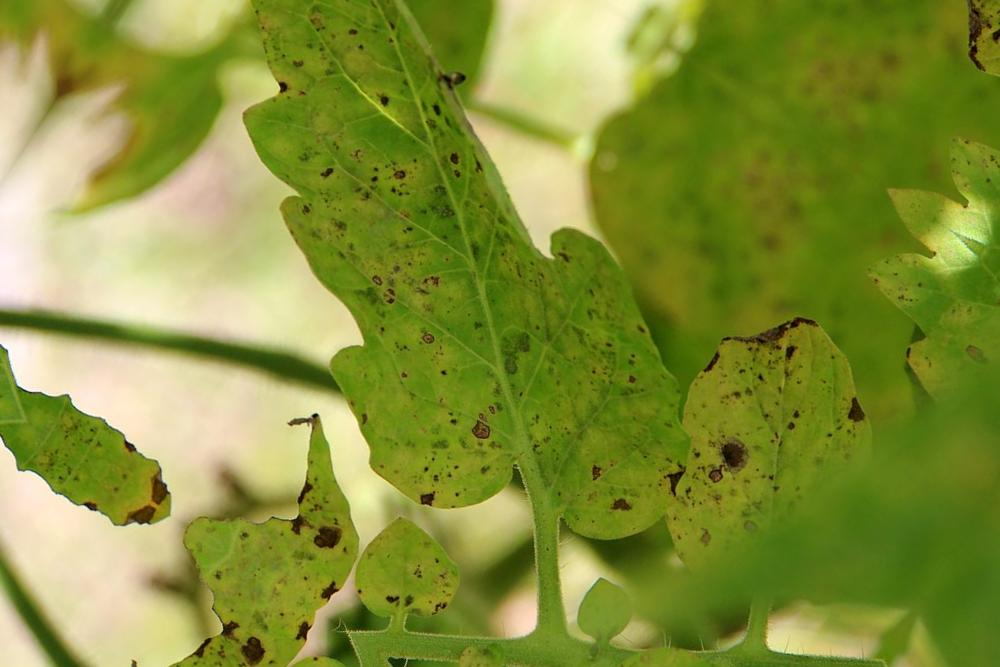Tomato Septoria leaf spot: (17, 0, 854, 609), (540, 223, 970, 667)
